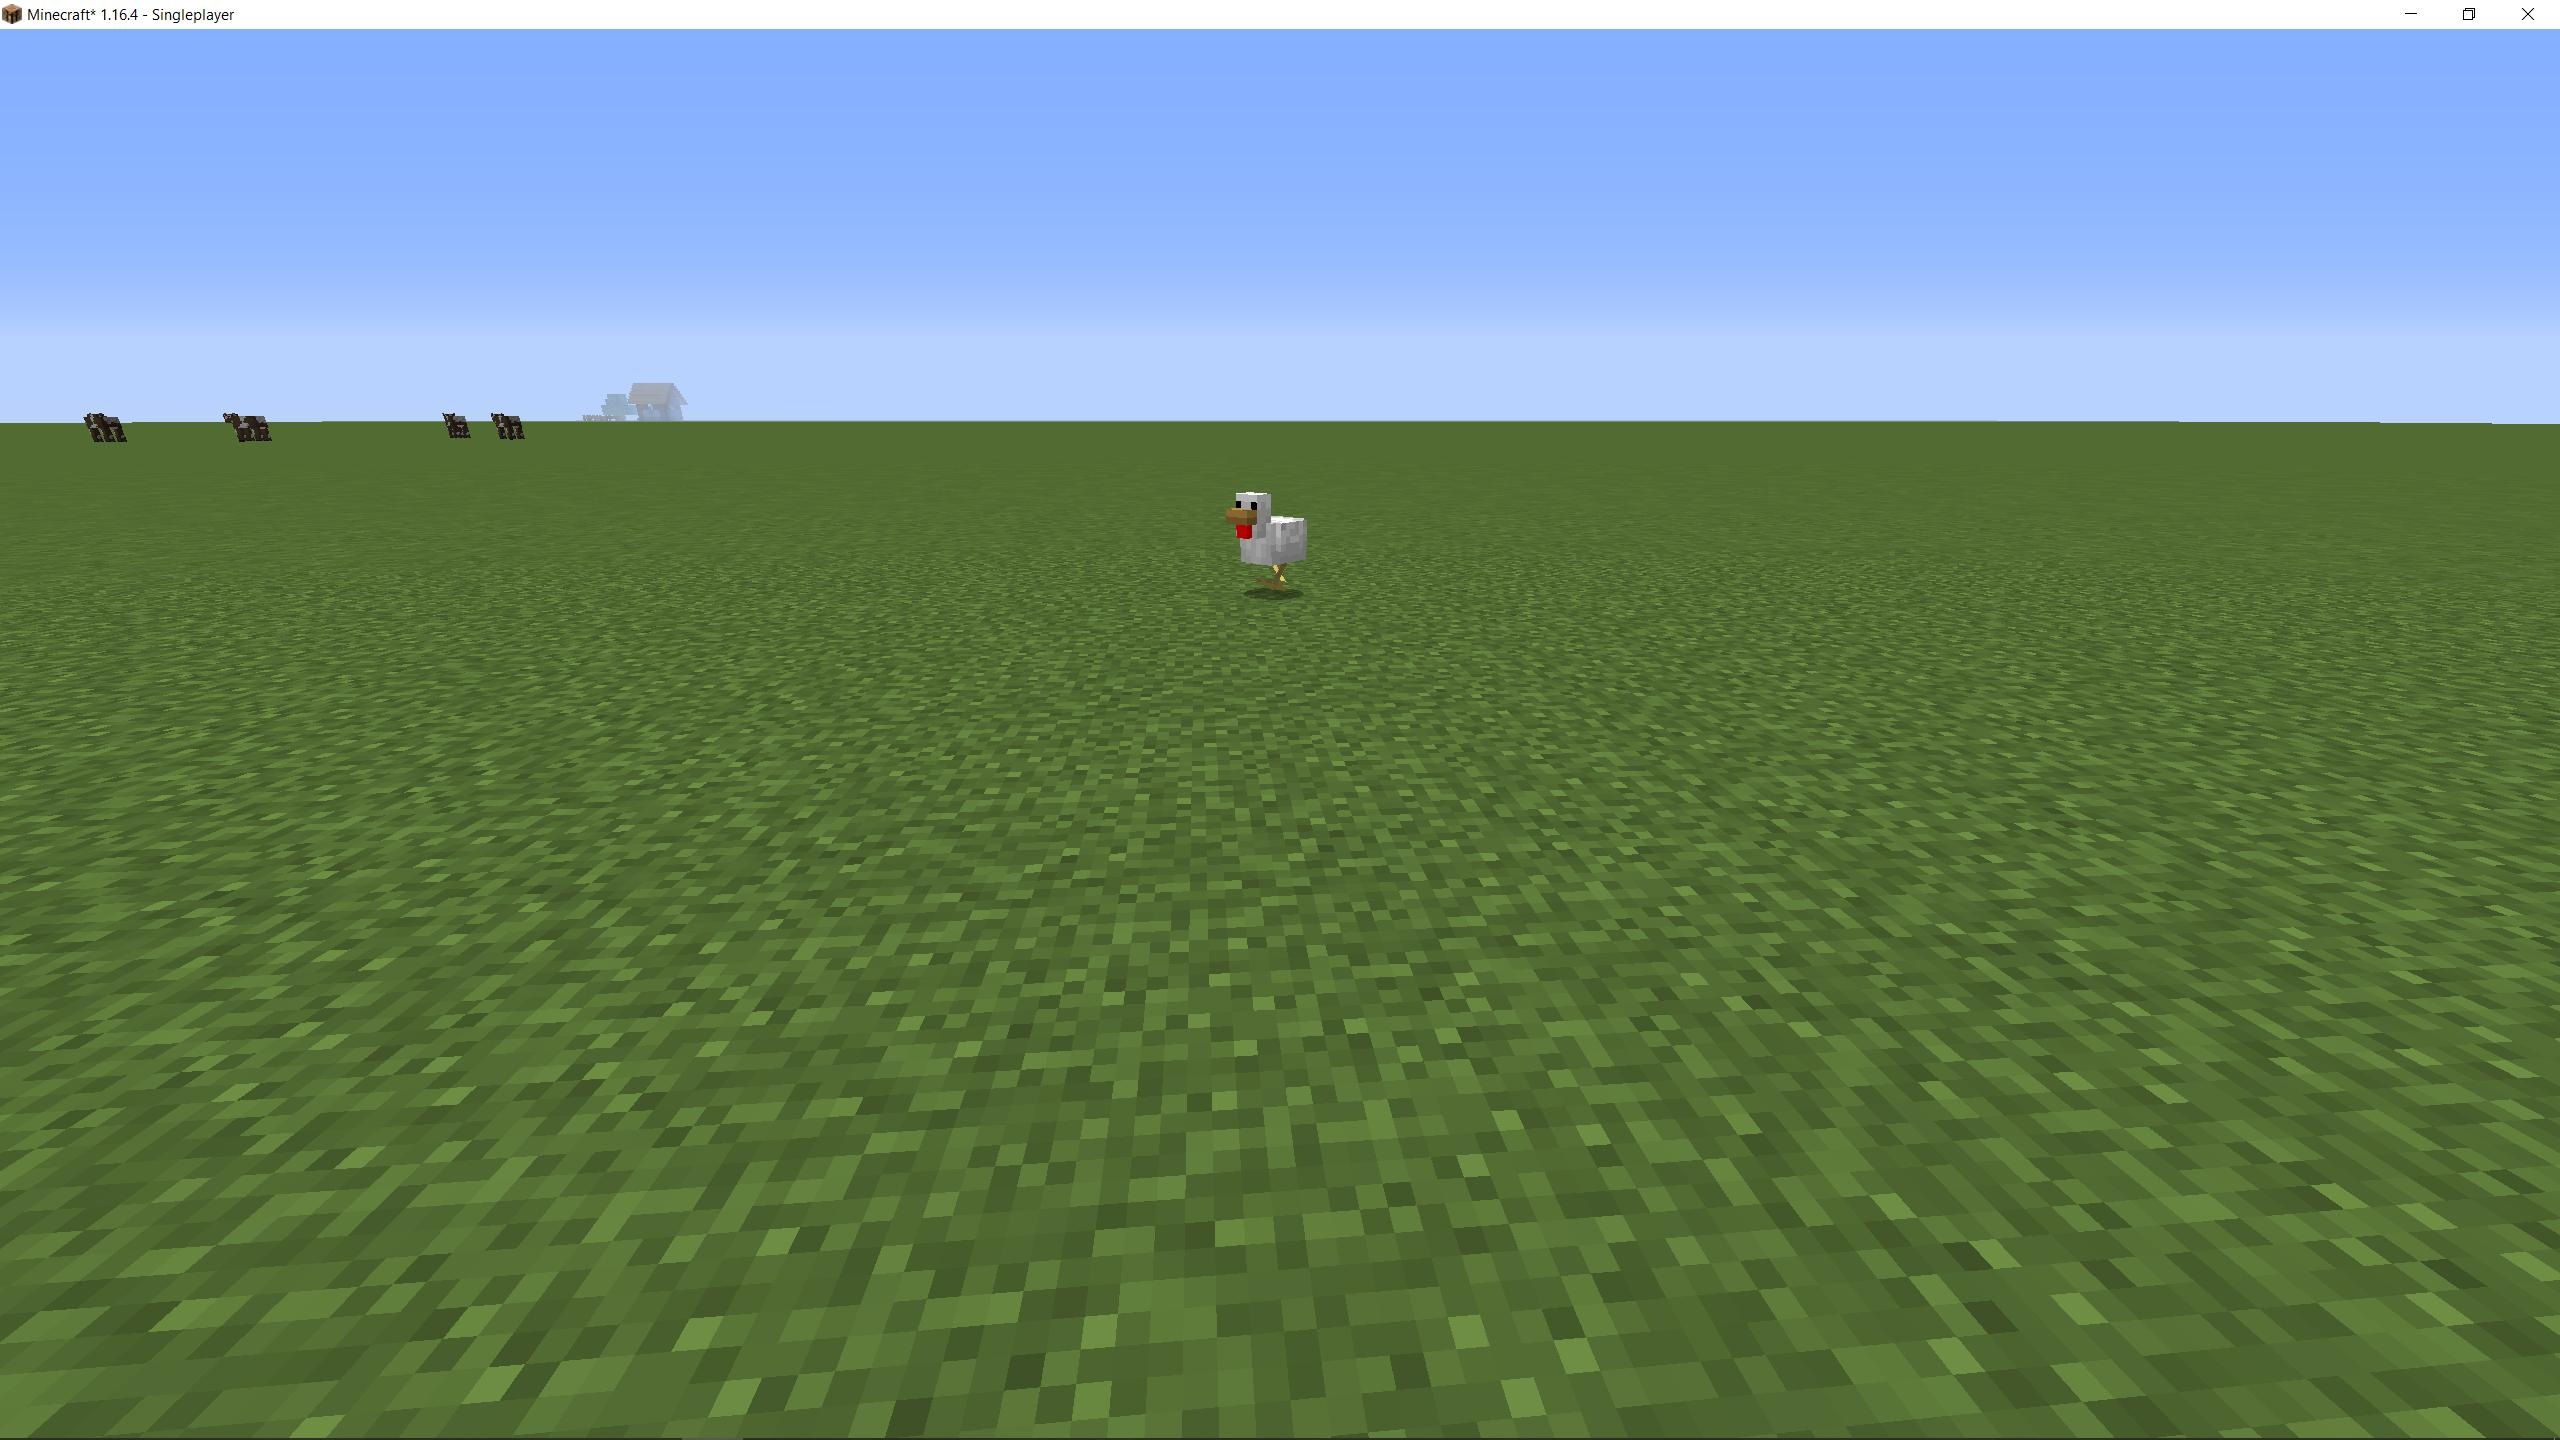chicken: (1220, 487, 1310, 600)
